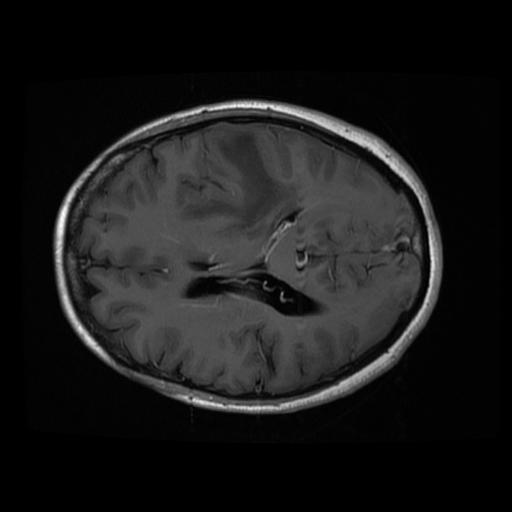glioma: (182, 132, 298, 266)
